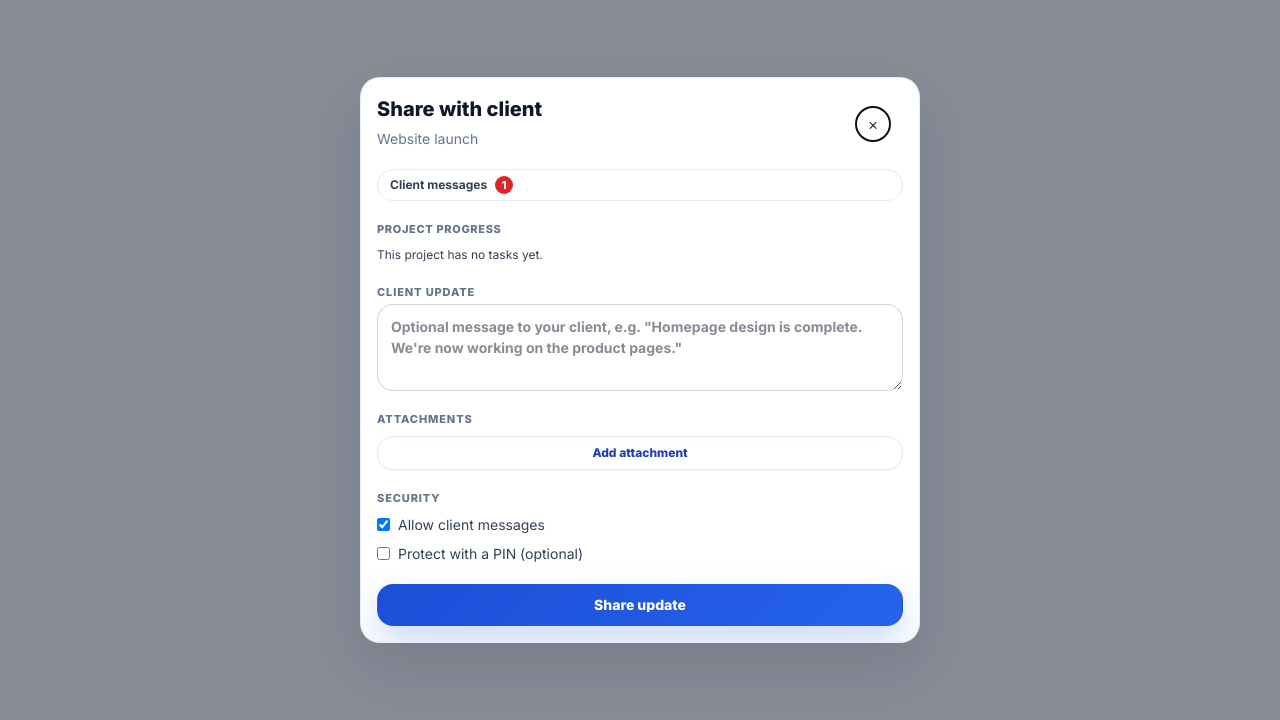
Test: ShareLinkPanel - Phase 5D RUNTIME DEFECT regression: stale unread badge after leaving the communication view › 1-6. reproduces the exact real-browser defect: after an explicit status mutation inside the modal, clicking Back refreshes the panel badge with no close/reopen
The width and height of the screenshot is (1280, 720).
Expected: the text "1" is shown, [495,176,513,194]
# open Client messages
What coordinates should you click on to do the following:
click the button "Client messages 1"
I would click on:
 (439, 184)
Its box is [377,169,903,201].
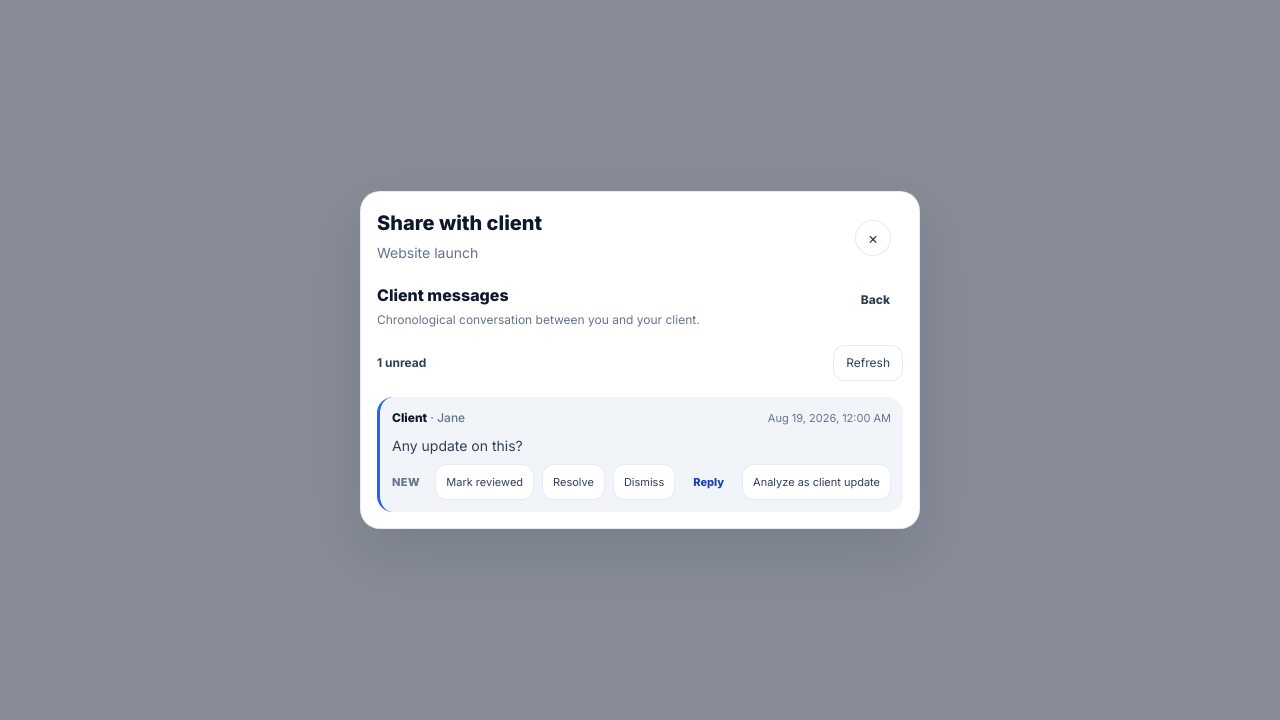
Now the text "1 unread" is shown, box [377,354,426,372]
What coordinates should you click on to do the following:
click the button "Mark reviewed"
I would click on:
 (485, 482)
Its box is [435,464,534,500].
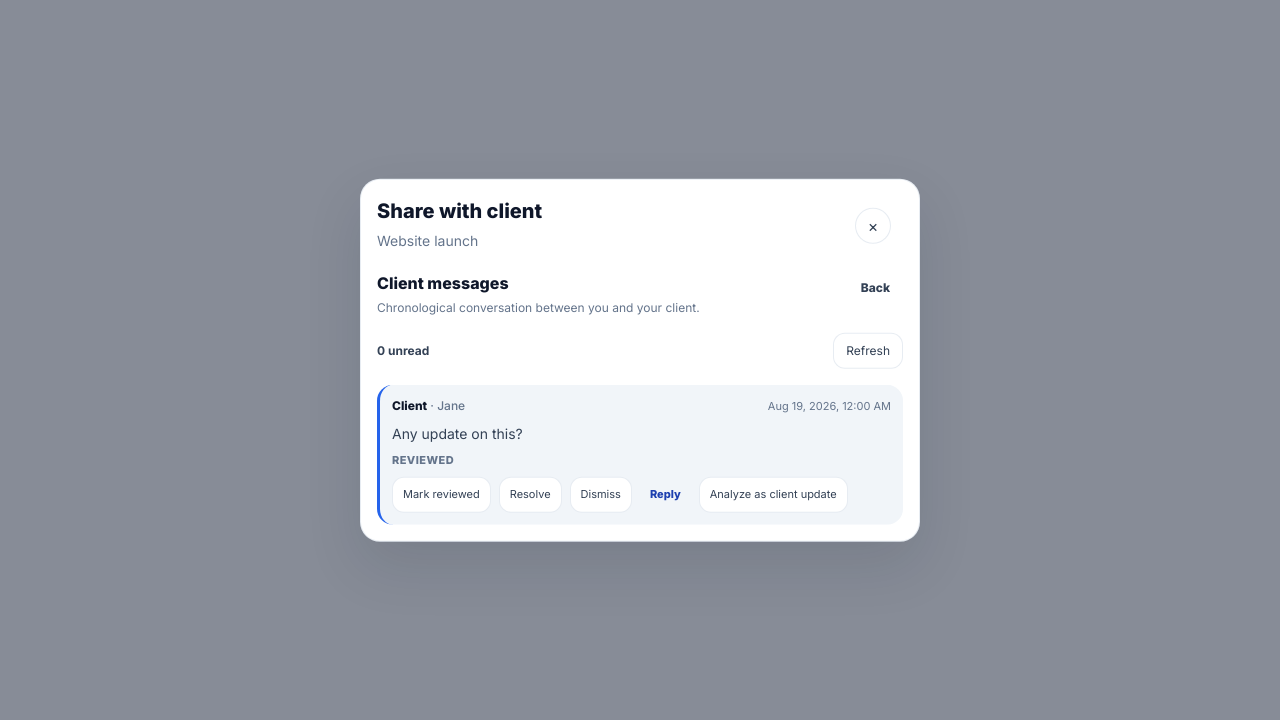
Now the text "0 unread" is shown, box [377,342,429,360]
# click Back
What coordinates should you click on to do the following:
click the button "Back"
I would click on:
 (875, 288)
Its box is [848,271,903,305].
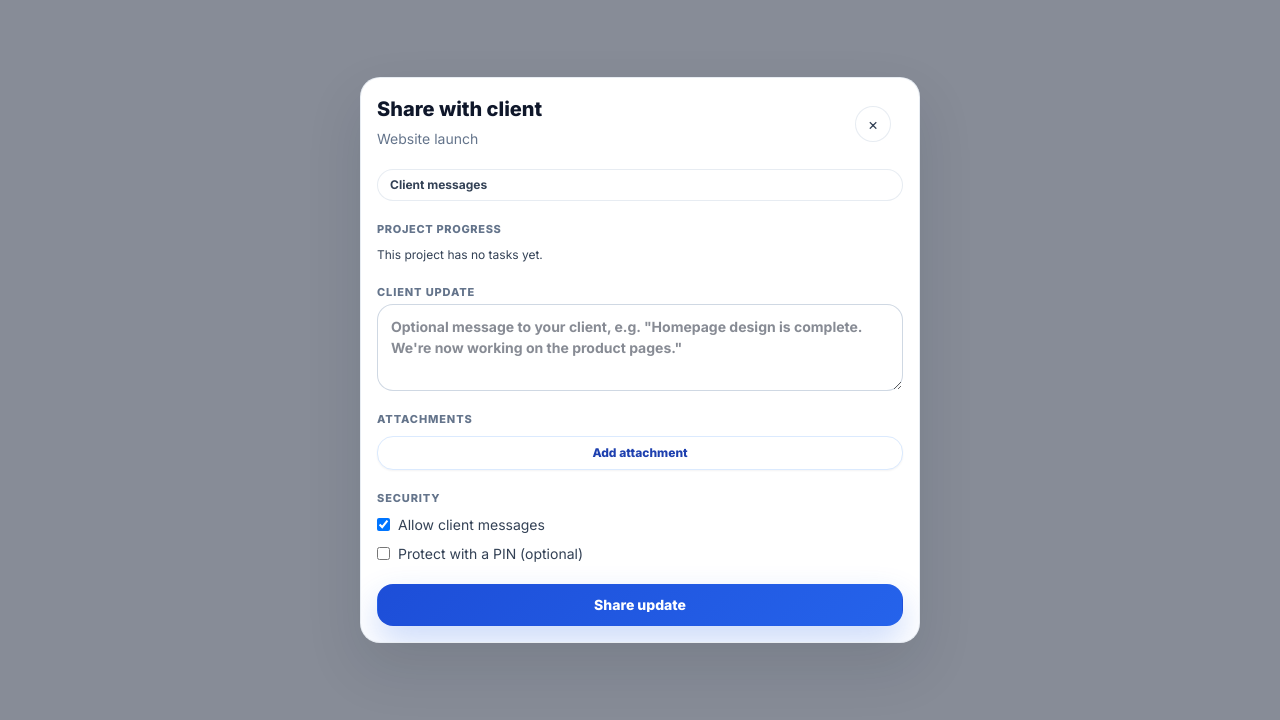
Expected: the dialog is shown, [360,77,920,643]
Now the text "1" is gone
Now the button "Client messages" is shown, box [377,169,903,201]
